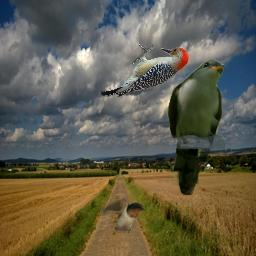Cuckoo: (167, 59, 226, 195)
Swallow: (100, 197, 145, 233)
Woodpecker: (101, 43, 190, 98)
